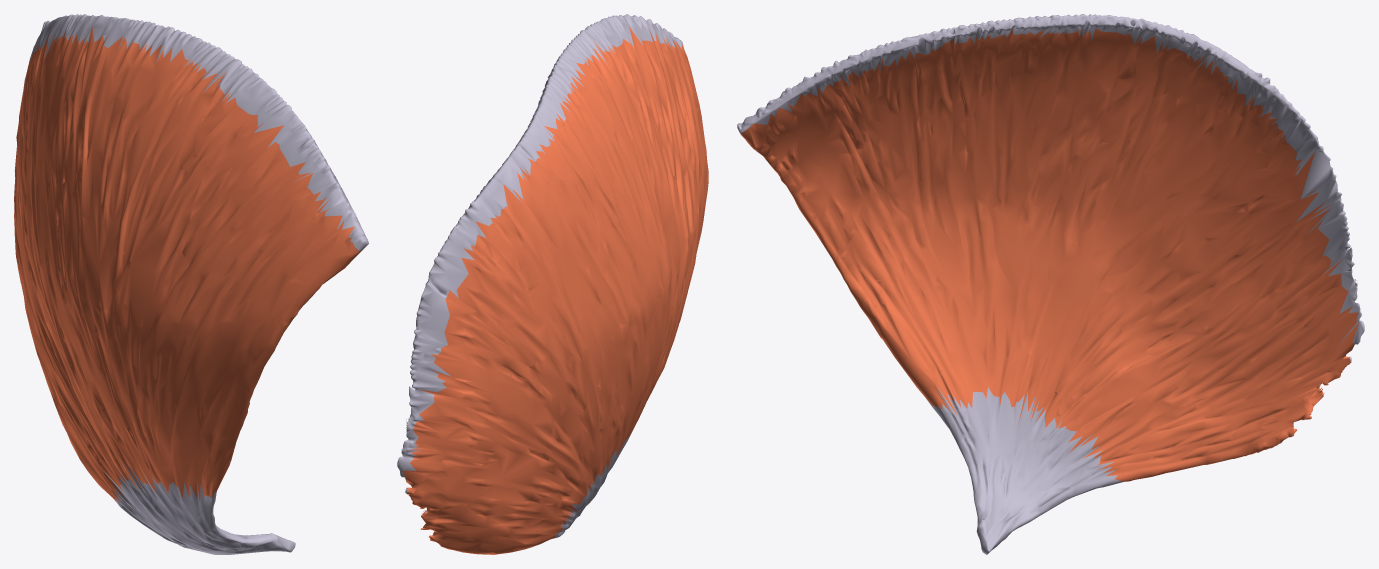
The model's file is Temporoparietalis_muscle.r_Generated_Mesh_From_X3D.164.glb.
The picture shows the model from 3 angles, left to right: view 1: azimuth 30°, elevation 25°; view 2: azimuth 150°, elevation 25°; view 3: azimuth 270°, elevation 25°; orthographic projection. The views are drawn at different scales.
Visible parts, largest first — view 1: Temporoparietalis_muscle.r_Generated_Mesh_From_X3D.164; view 2: Temporoparietalis_muscle.r_Generated_Mesh_From_X3D.164; view 3: Temporoparietalis_muscle.r_Generated_Mesh_From_X3D.164.
Boxes of the visible parts, box(x1,y1,x2,y2) form: Temporoparietalis_muscle.r_Generated_Mesh_From_X3D.164: box(14, 14, 368, 554); Temporoparietalis_muscle.r_Generated_Mesh_From_X3D.164: box(397, 14, 708, 554); Temporoparietalis_muscle.r_Generated_Mesh_From_X3D.164: box(737, 14, 1364, 554).
Size of the model in its own units: 0.0382 by 0.1028 by 0.1168.
